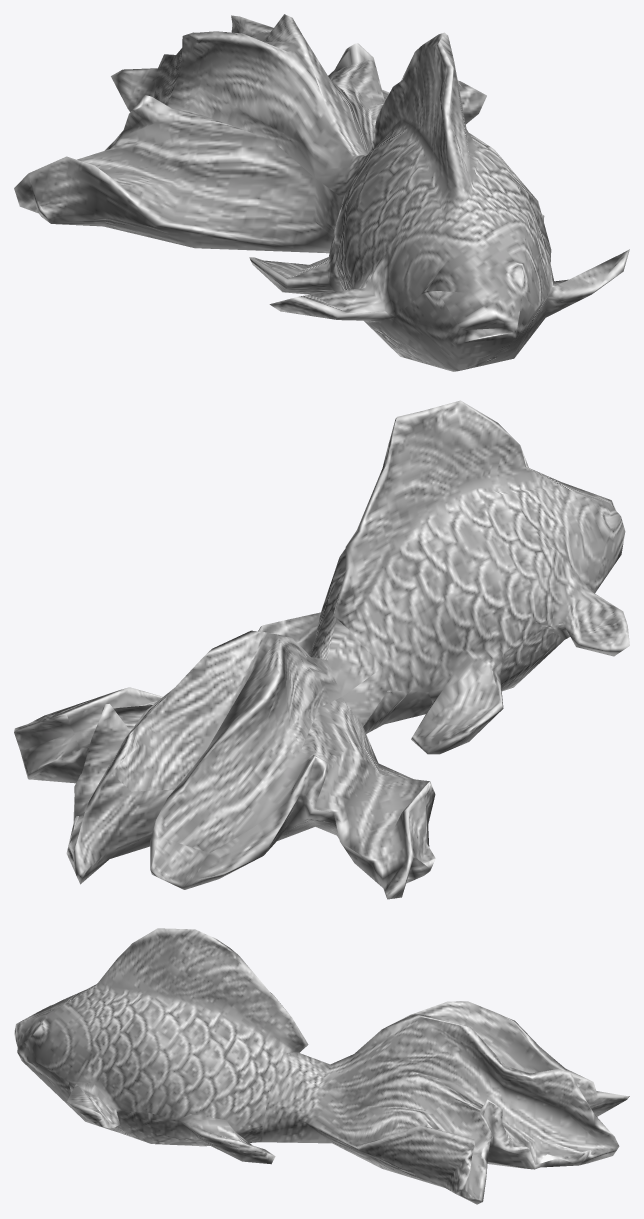
Rendered from ca-chep-nhe.glb.
3 views of the same model, one above another, from view 1: azimuth 30°, elevation 25°; view 2: azimuth 150°, elevation 25°; view 3: azimuth 270°, elevation 25° (orthographic). The views are drawn at different scales.
Visible parts, largest first — view 1: Fish-4K-BakeMaterialTest; view 2: Fish-4K-BakeMaterialTest; view 3: Fish-4K-BakeMaterialTest.
Boxes of the visible parts, box(x1,y1,x2,y2) form: Fish-4K-BakeMaterialTest: box(14, 14, 629, 371); Fish-4K-BakeMaterialTest: box(14, 400, 629, 899); Fish-4K-BakeMaterialTest: box(14, 928, 629, 1204).
Size of the model in its own units: 0.5966 by 0.3697 by 1.
Materials: 1 (1 with a texture image).
